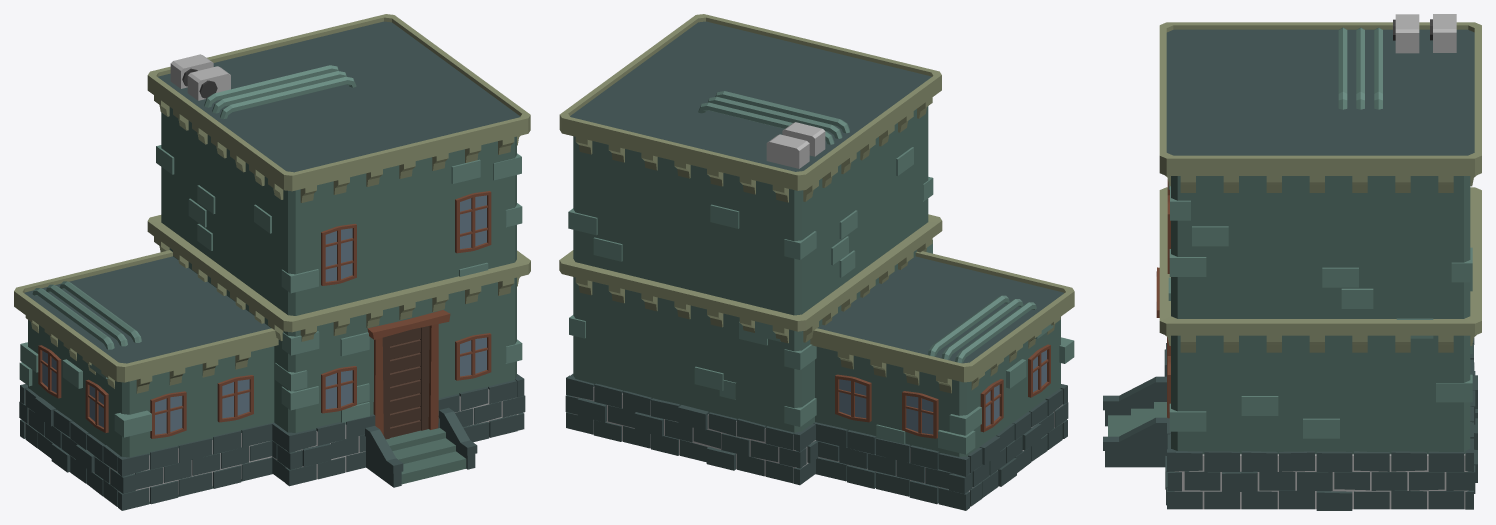
The model's file is 2Story_Sidehouse_Mat.gltf.
3 renders of one model, left to right at view 1: azimuth 30°, elevation 25°; view 2: azimuth 150°, elevation 25°; view 3: azimuth 270°, elevation 25°, orthographic. The views are drawn at different scales.
Parts seen in each view (by area): view 1: o 2Story_Sidehouse_Mat_Cube.023; view 2: o 2Story_Sidehouse_Mat_Cube.023; view 3: o 2Story_Sidehouse_Mat_Cube.023.
Part boxes in pixels (x1,y1,x2,y2): o 2Story_Sidehouse_Mat_Cube.023: [14, 14, 530, 510]; o 2Story_Sidehouse_Mat_Cube.023: [559, 14, 1074, 510]; o 2Story_Sidehouse_Mat_Cube.023: [1103, 14, 1481, 510].
Size of the model in its own units: 3.47 by 2.76 by 2.53.
